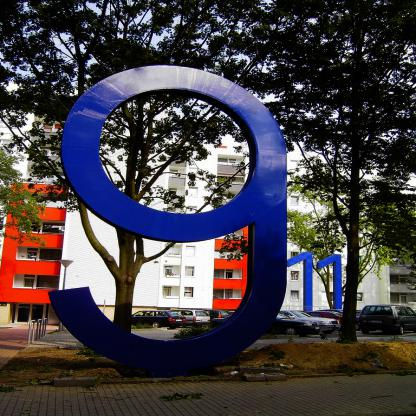Car: (130, 304, 416, 337)
